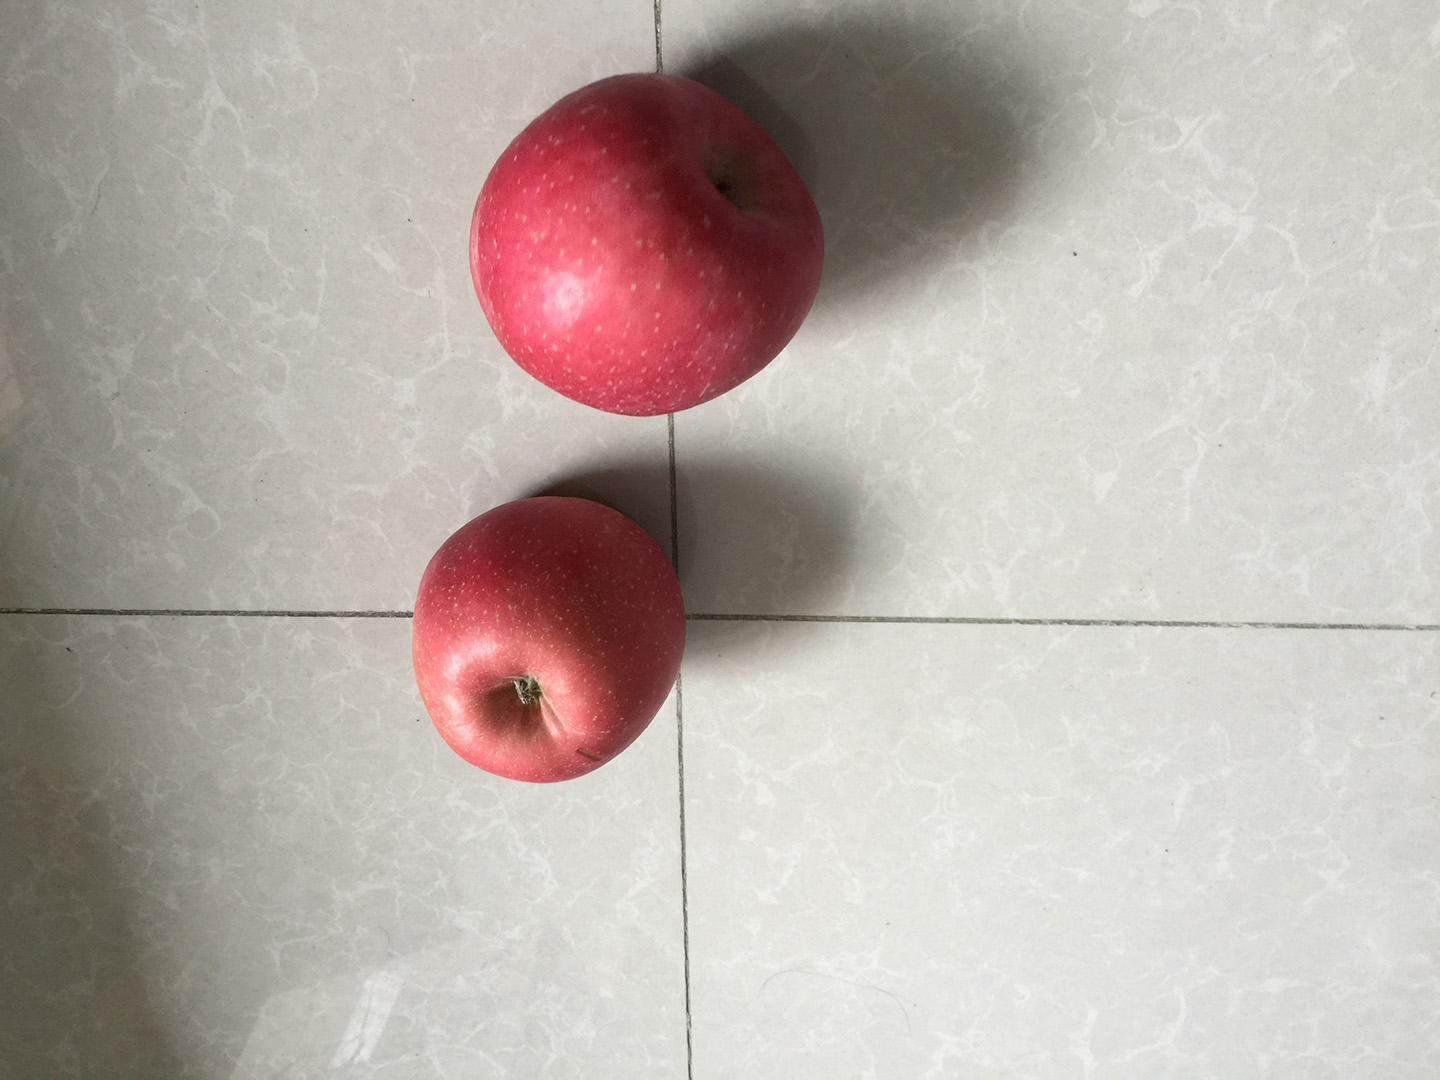apple: (461, 66, 842, 431), (404, 488, 692, 788)
